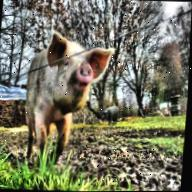boar: (12, 19, 113, 150)
